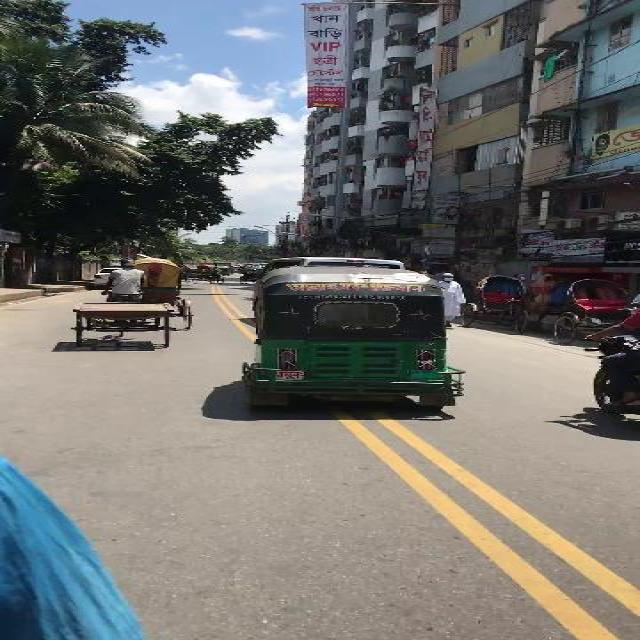vehicle: (241, 264, 465, 409), (68, 259, 180, 351), (552, 278, 638, 344), (461, 274, 537, 337), (136, 256, 198, 330), (193, 265, 225, 286)
